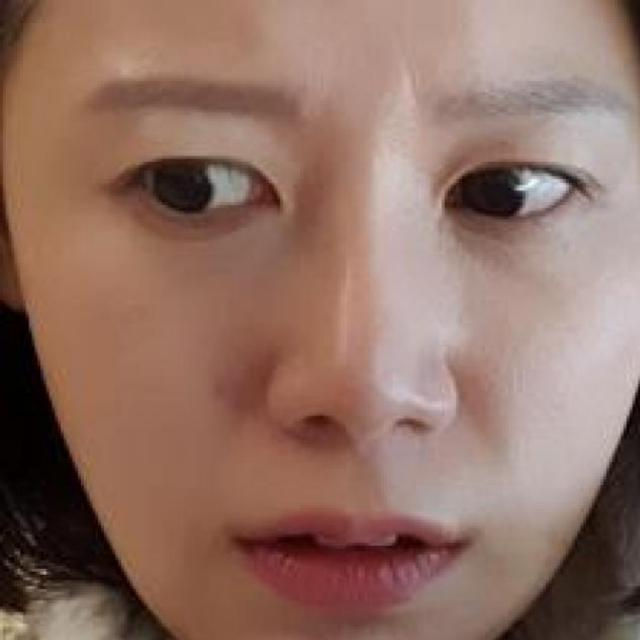Disgust: (35, 47, 640, 640)
